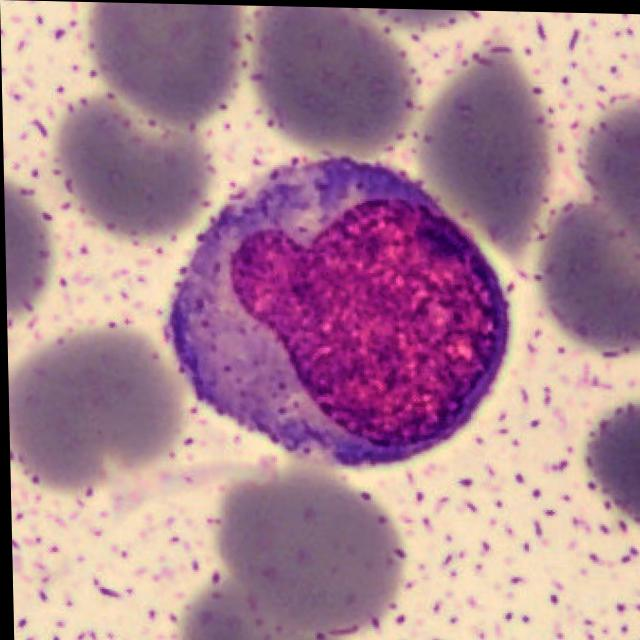Mieloblasto: (161, 157, 509, 468)
